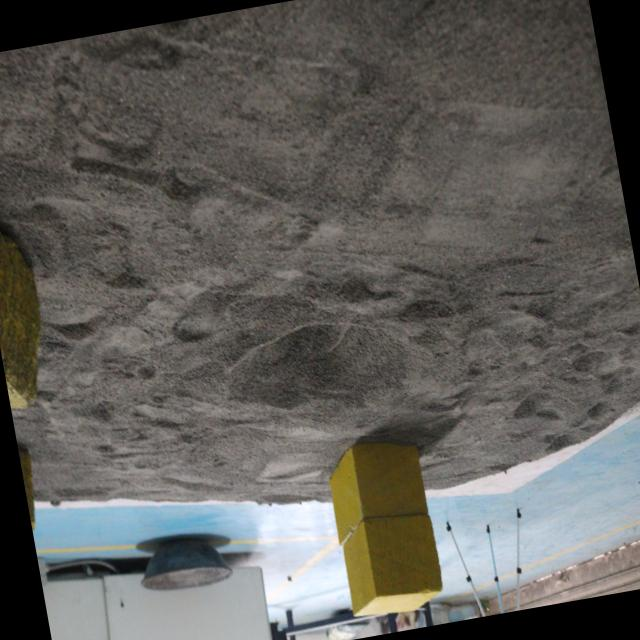box: (315, 428, 453, 626), (0, 214, 55, 411)
crater: (200, 288, 447, 444)
